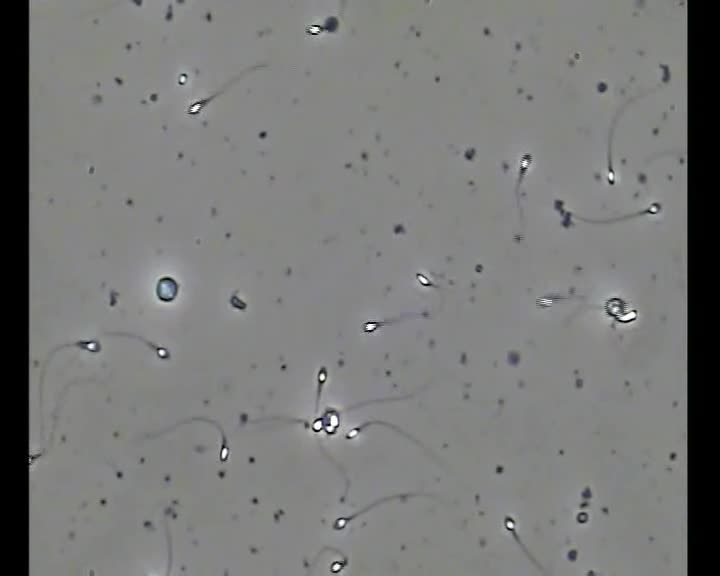spermhead: (156, 276, 178, 302), (605, 296, 627, 317), (322, 408, 339, 434), (186, 98, 209, 115), (74, 338, 100, 353), (229, 289, 247, 310), (614, 309, 637, 323), (322, 16, 339, 33), (519, 153, 532, 174), (415, 271, 432, 287), (219, 439, 230, 462), (329, 559, 347, 573), (504, 516, 517, 535), (153, 345, 169, 359), (305, 23, 323, 35), (536, 296, 554, 308), (561, 210, 573, 228), (333, 516, 348, 530), (108, 288, 119, 307), (646, 201, 662, 214), (363, 320, 380, 332), (396, 491, 416, 501), (317, 366, 328, 384), (345, 426, 360, 439), (311, 416, 323, 432), (580, 487, 592, 503), (576, 510, 588, 524), (410, 310, 431, 318), (606, 168, 615, 186), (29, 452, 41, 465), (177, 72, 188, 86), (553, 199, 564, 212), (239, 412, 249, 425), (513, 232, 523, 244), (301, 419, 310, 430), (425, 0, 431, 5)
